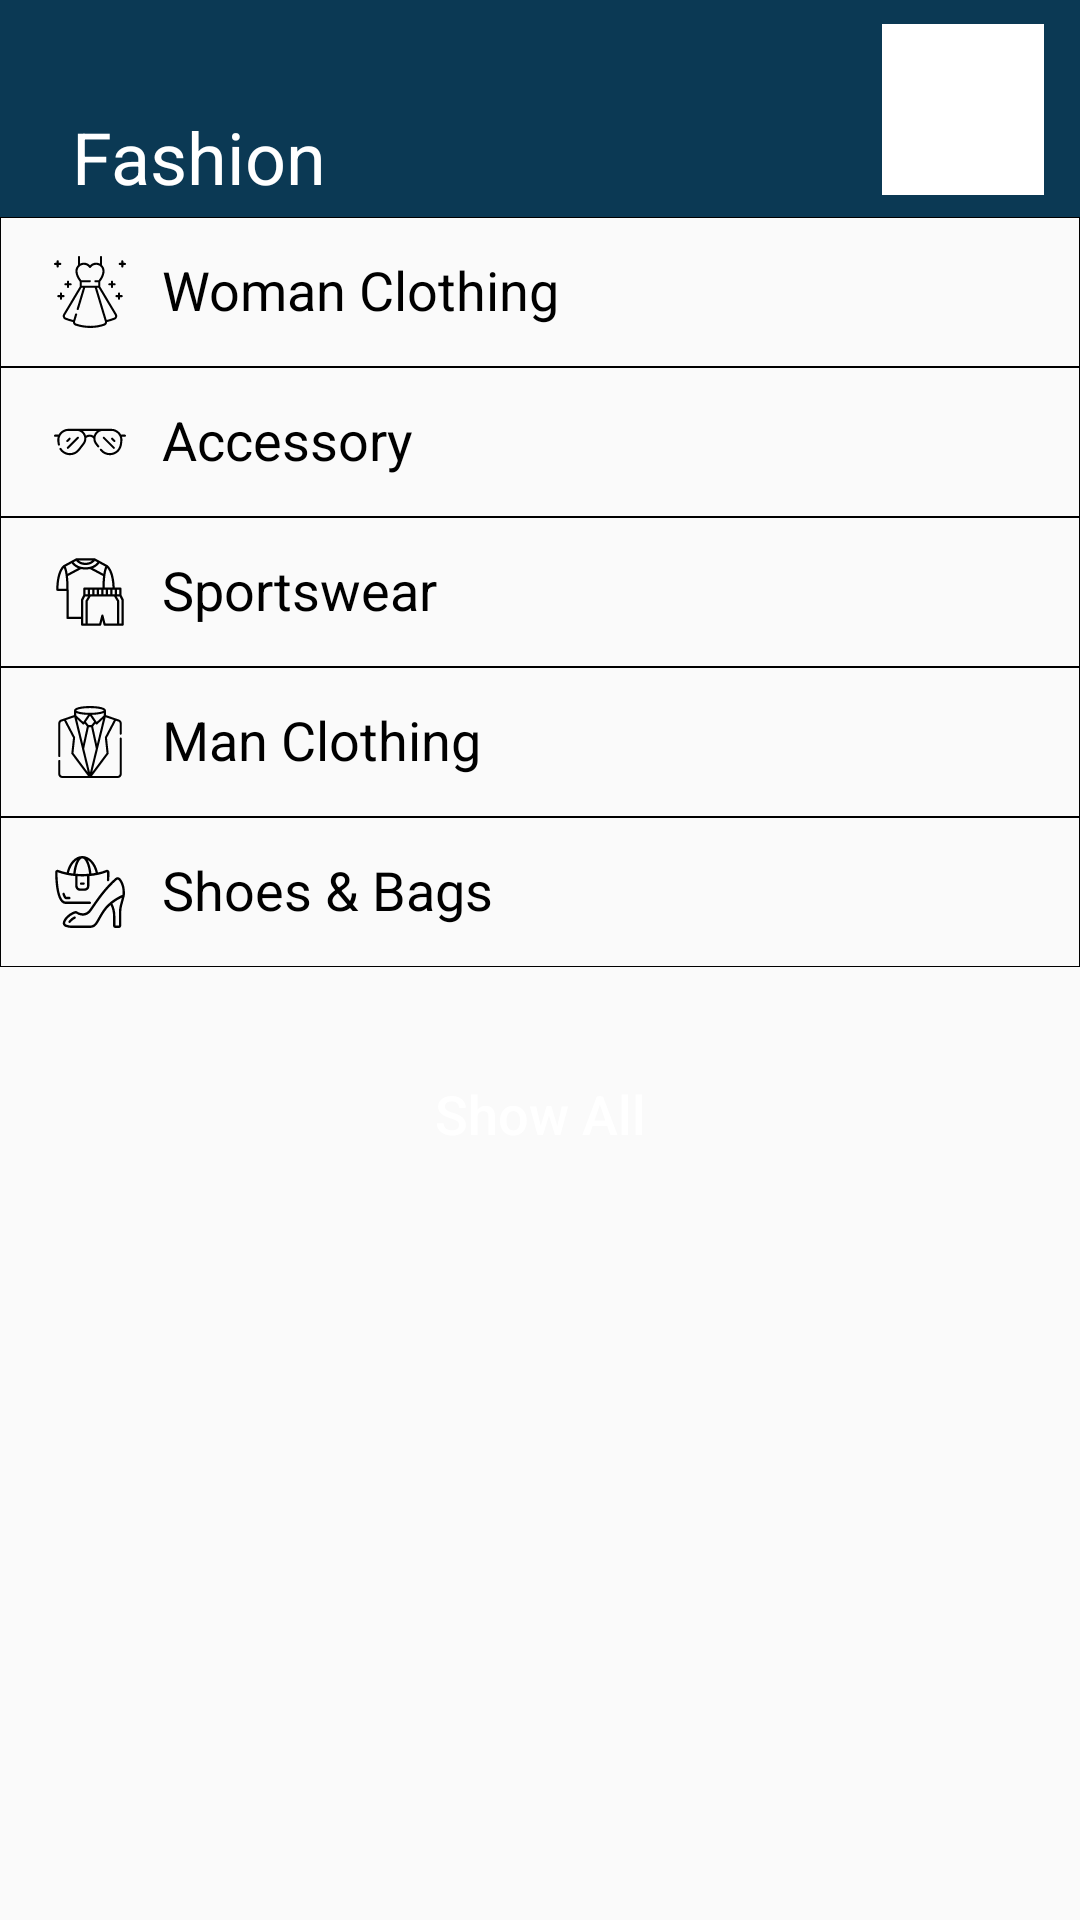

Icons on this 1080*1920 Android screen, each with the point to tap as (x=x, y=y):
dress: (x=90, y=292)
suit: (x=90, y=742)
sunglasses: (x=90, y=442)
